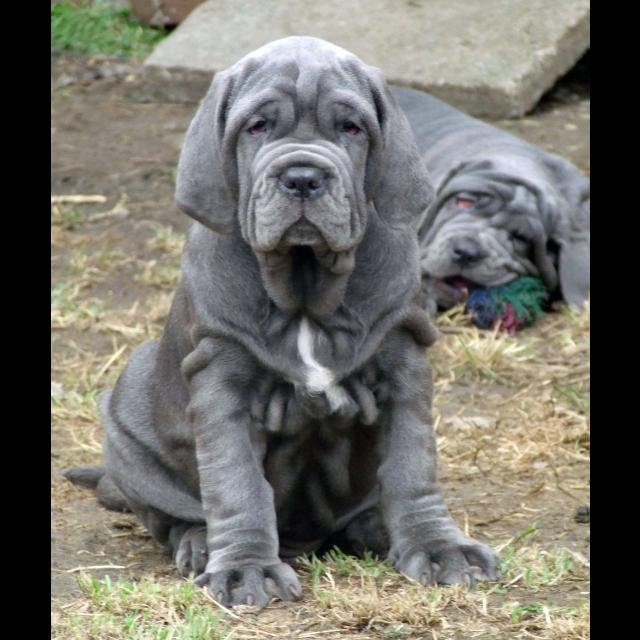mastino_napoletano: (62, 36, 504, 611), (387, 84, 590, 324)
